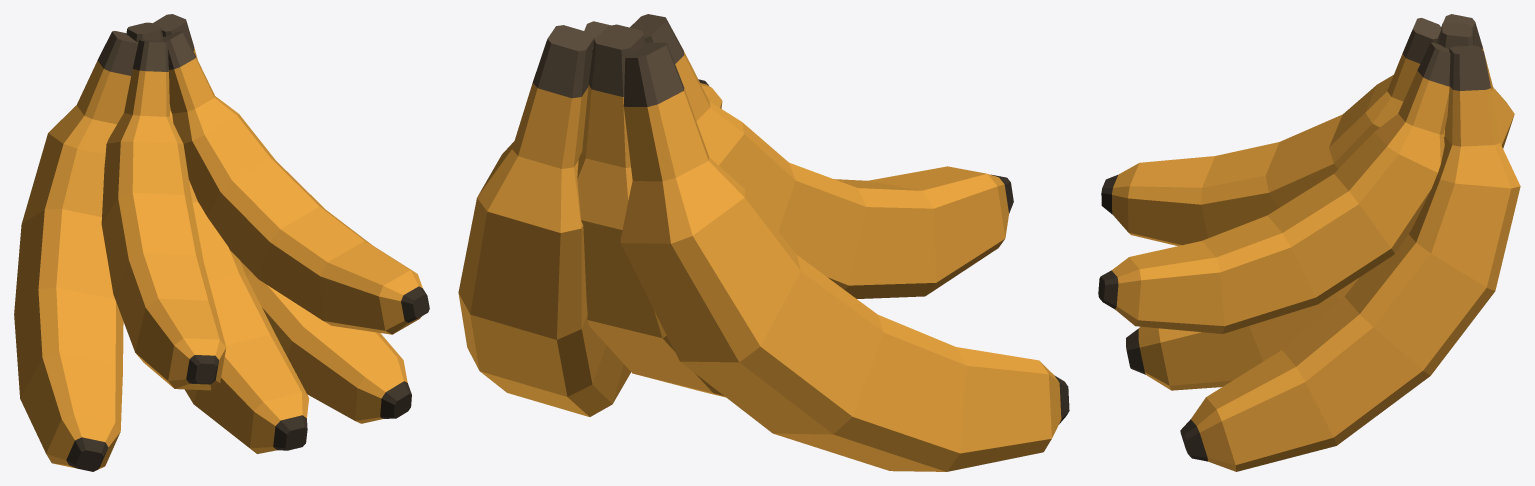
Rendered from SM_Icon_Banana_02.fbx.
3 views of the same model, side by side, from view 1: azimuth 30°, elevation 25°; view 2: azimuth 150°, elevation 25°; view 3: azimuth 270°, elevation 25° (orthographic). The views are drawn at different scales.
Visible parts, largest first — view 1: SM_Icon_Banana_02; view 2: SM_Icon_Banana_02; view 3: SM_Icon_Banana_02.
Boxes of the visible parts, bbox=[...] form: SM_Icon_Banana_02: bbox=[14, 14, 429, 471]; SM_Icon_Banana_02: bbox=[458, 14, 1069, 471]; SM_Icon_Banana_02: bbox=[1098, 14, 1520, 471].
Bounding box in the file's own units: 50.62 × 47.57 × 48.45.
